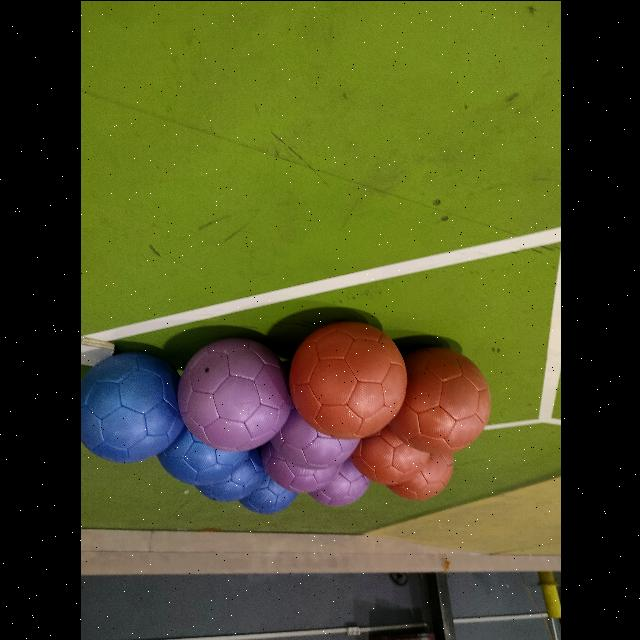B: (80, 352, 182, 462), (195, 448, 265, 502)
P: (177, 338, 291, 450), (308, 458, 369, 506)
R: (288, 320, 406, 438), (382, 346, 490, 454), (386, 452, 452, 500)
